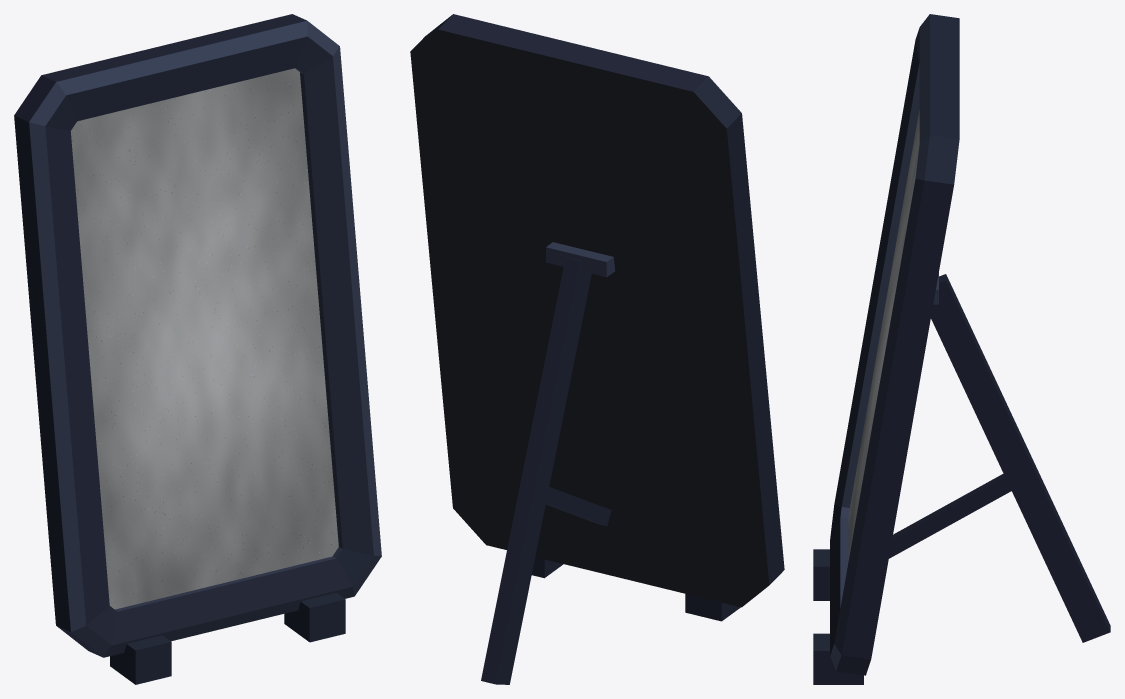
Rendered from Mirror_Rectangle.fbx.
3 views of the same model, side by side, from view 1: azimuth 30°, elevation 25°; view 2: azimuth 150°, elevation 25°; view 3: azimuth 270°, elevation 25° (orthographic). The views are drawn at different scales.
Visible parts, largest first — view 1: Mirror_Rectangle; view 2: Mirror_Rectangle; view 3: Mirror_Rectangle.
Boxes of the visible parts, box(x1,y1,x2,y2) form: Mirror_Rectangle: box(14, 14, 381, 684); Mirror_Rectangle: box(410, 14, 784, 684); Mirror_Rectangle: box(813, 14, 1110, 684).
Size of the model in its own units: 0.52 by 0.9116 by 0.4345.
4 materials, 1 textured.
